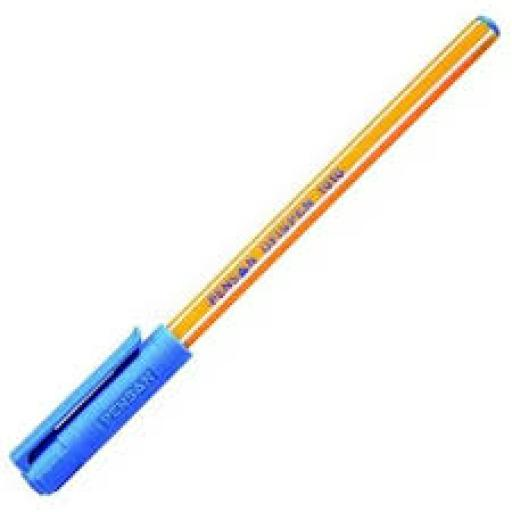tukenmez-kalem: (9, 7, 512, 471)
